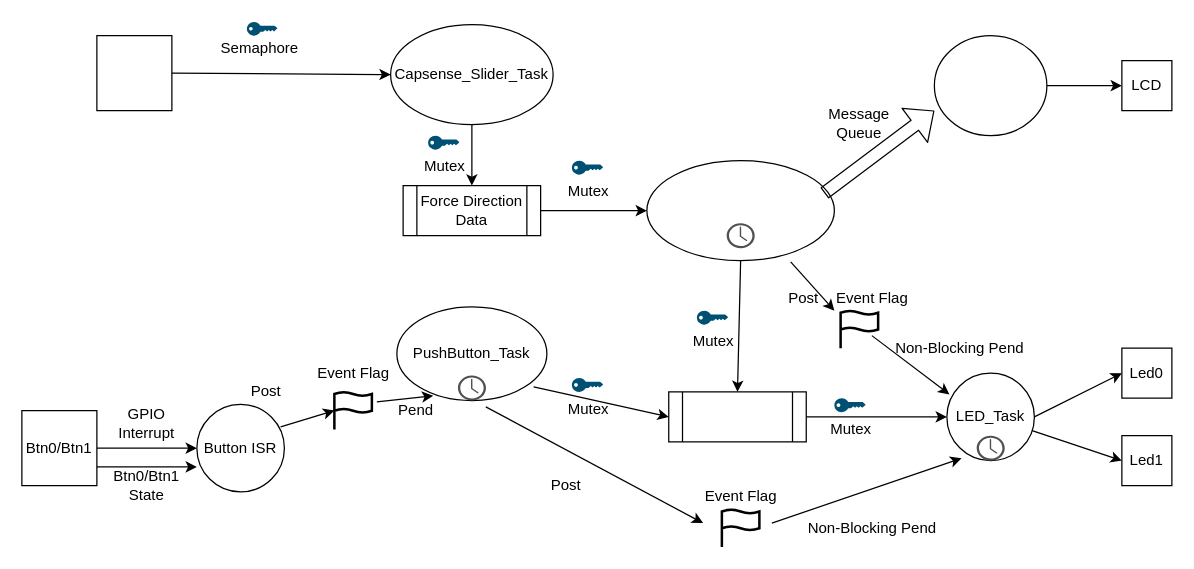
Image size: 1194x569. Some labels were removed from this diagram. The shapes that lost their labels are listed below. From the top down, each one's box as (x1, y1, x2, y2) in pixels, then its label:
(96, 34, 172, 111): Touch Slider
(933, 34, 1047, 136): Display_Task
(646, 159, 834, 261): Physics_Generator_Task
(668, 391, 806, 442): Force Percentage Data
